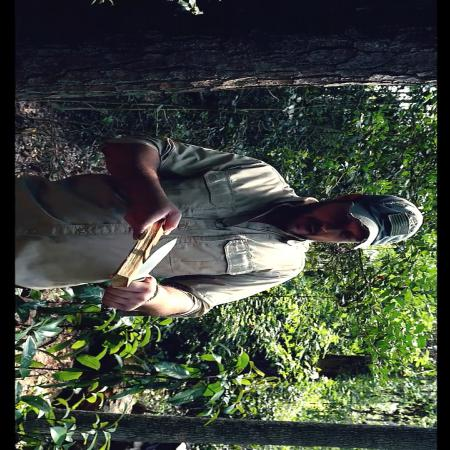long weapon: (102, 235, 182, 311)
